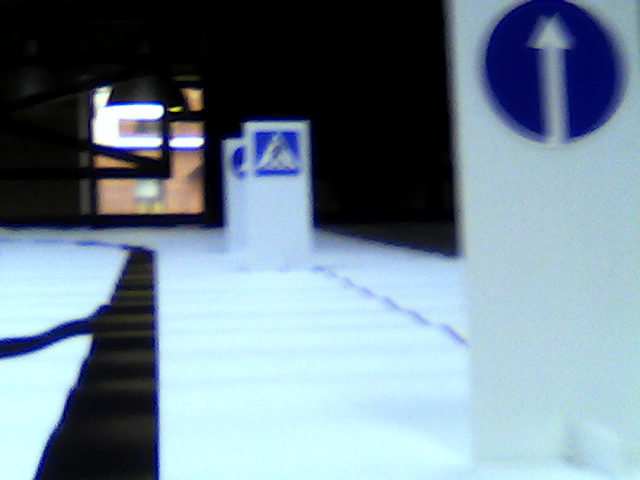forw: (468, 1, 630, 134)
pesh: (251, 129, 301, 176)
